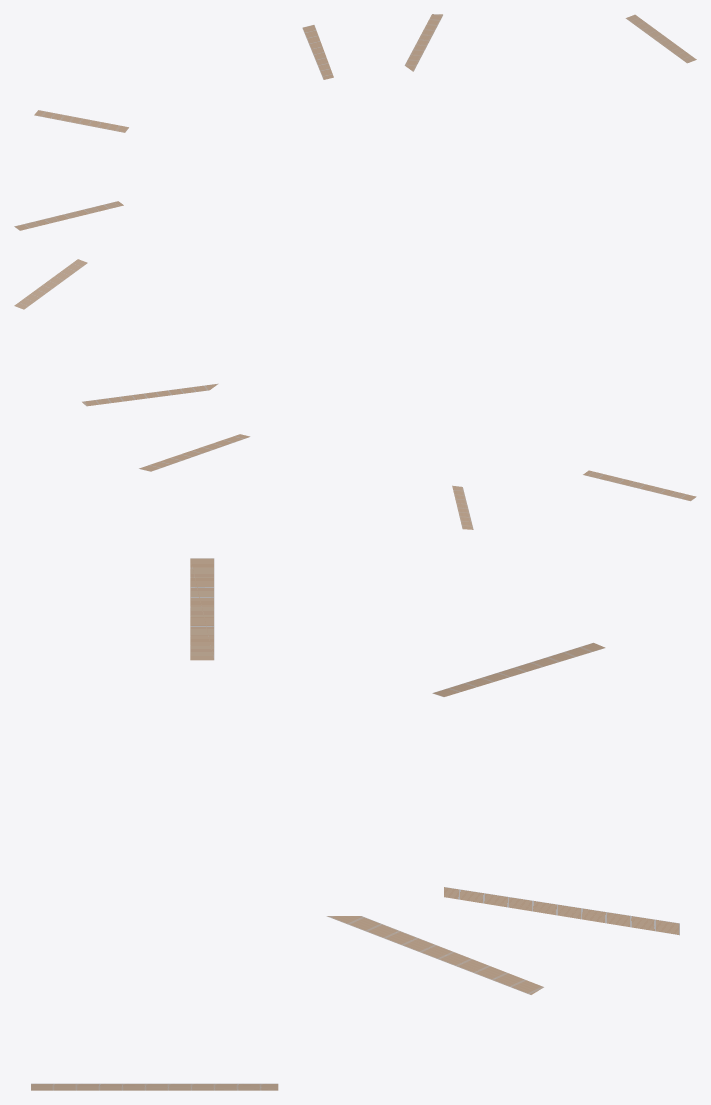
The model's file is kd_stage_13612f_3_16.glb.
3 views of the same model, one above another, from view 1: azimuth 30°, elevation 25°; view 2: azimuth 150°, elevation 25°; view 3: azimuth 270°, elevation 25° (orthographic). The views are drawn at different scales.
Parts seen in each view (by area): view 1: kd_stage_13612f_3_16; view 2: kd_stage_13612f_3_16; view 3: kd_stage_13612f_3_16.
Part boxes in pixels (x1,y1,x2,y2): kd_stage_13612f_3_16: (14, 14, 696, 230); kd_stage_13612f_3_16: (14, 259, 696, 529); kd_stage_13612f_3_16: (31, 558, 679, 1090).
Size of the model in its own units: 26.79 by 1.8 by 11.81.
Materials: 1 (1 with a texture image).
